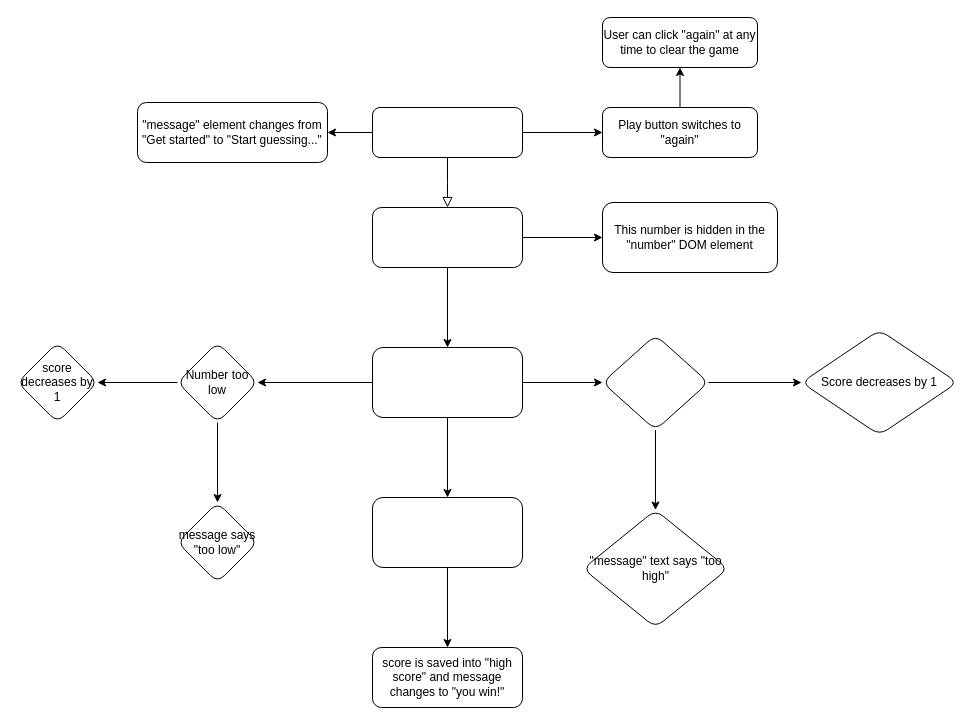
Some shapes in this 975 by 725 pixel diagram are drawn without their labels. The box of each missing label's shape, as (x1, y1, x2, y2) in pixels:
number matches hidden number: (372, 496, 522, 568)
Number too high: (602, 334, 708, 430)
Random number generated (hidden from user): (372, 206, 522, 268)
User clicks play: (372, 106, 522, 158)
User enters a number into the ".guess" element: (372, 346, 522, 418)
